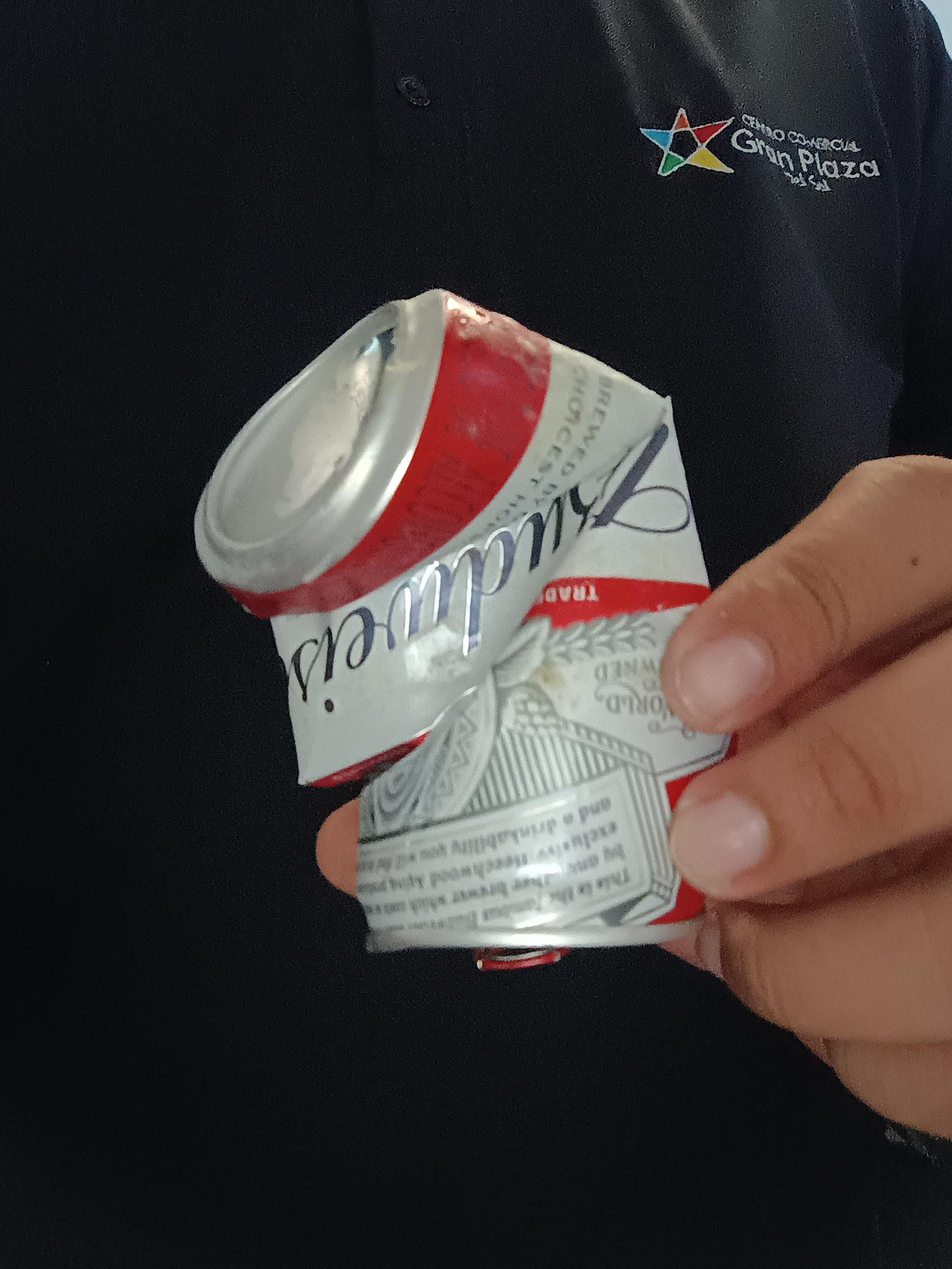Metal: (191, 290, 744, 968)
